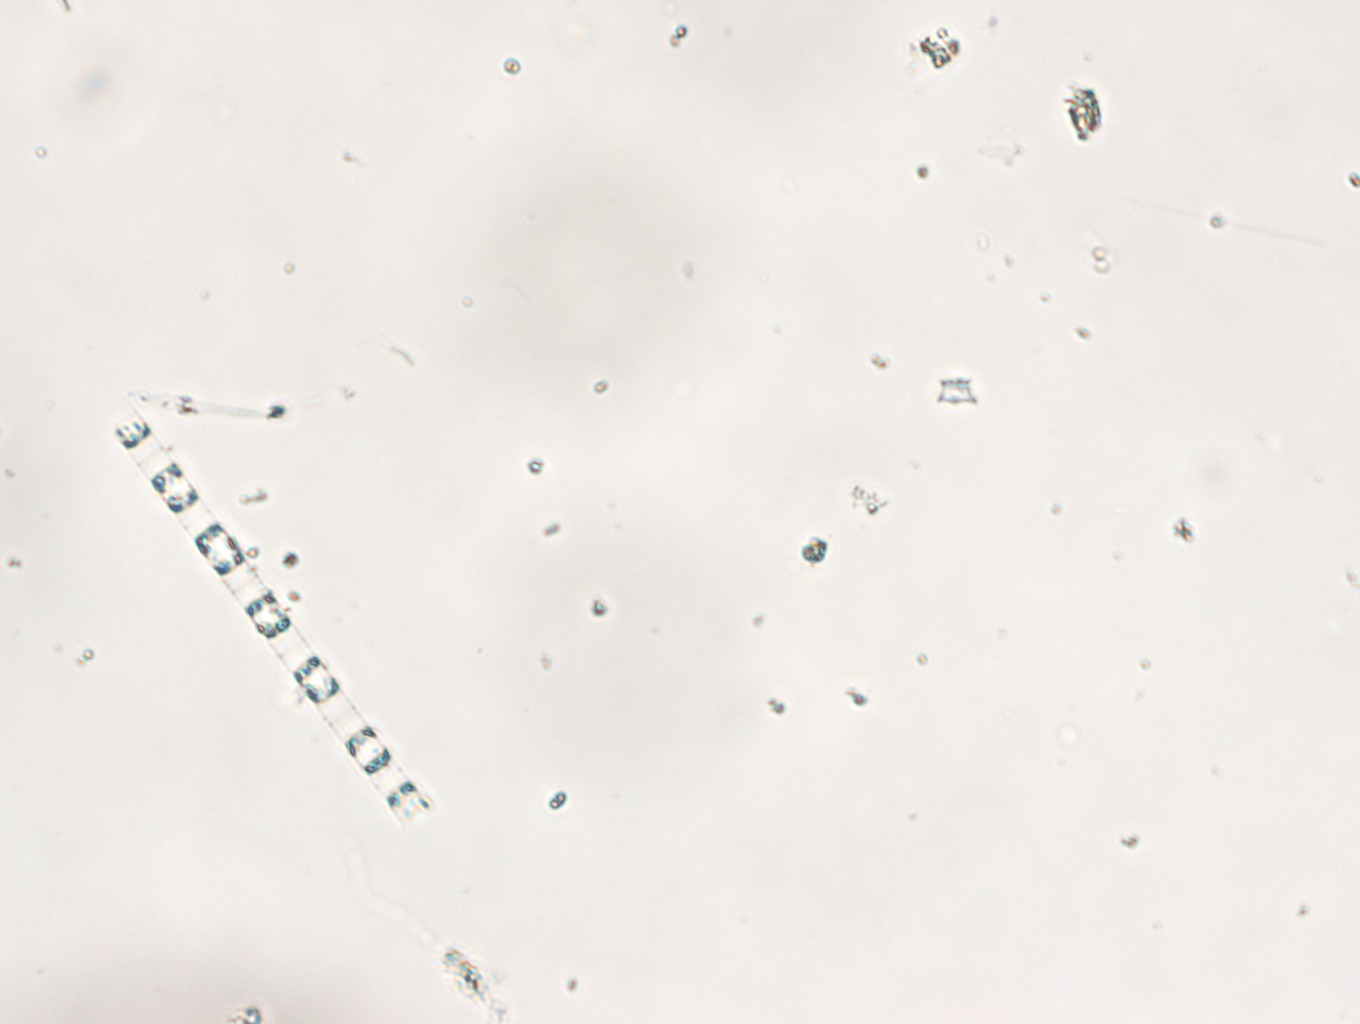skeletonema: (115, 397, 457, 837)
